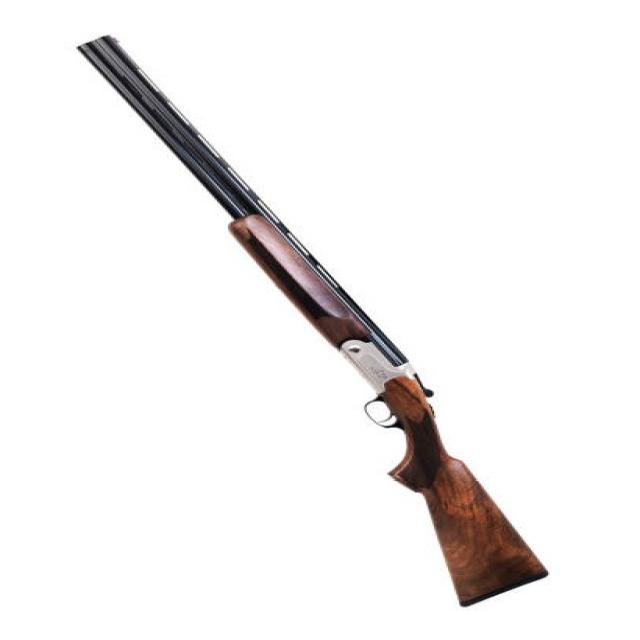rifle: (71, 30, 553, 618)
